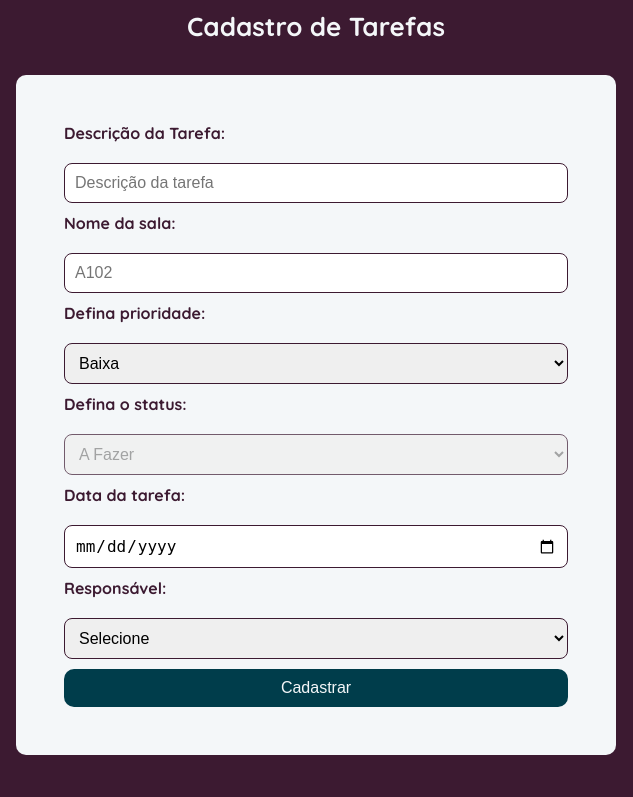
it: Deve mostrar erros de espaçamento em descrição
The image size is (633, 797).
In the field labelled "Descrição da Tarefa:": x=316, y=183 [64,163,568,203], type "        kauannn"
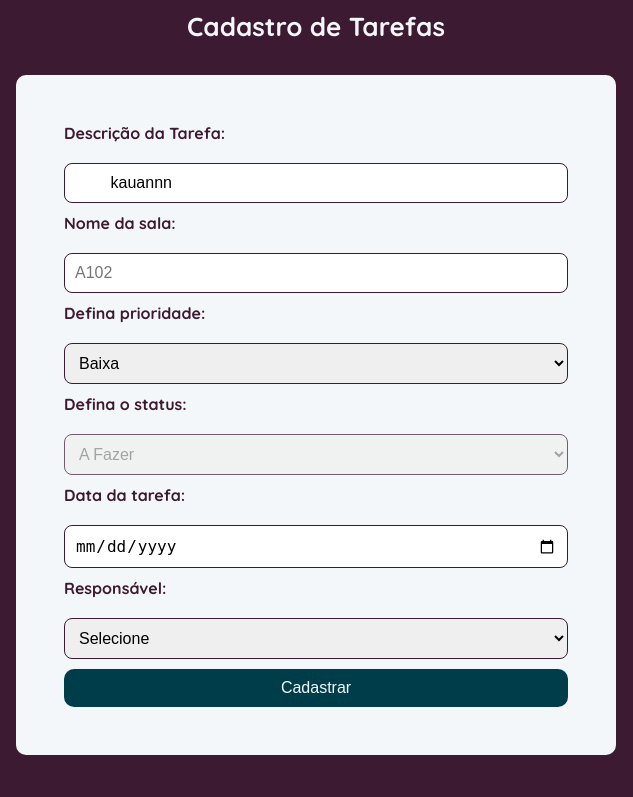
In the field labelled "Nome da sala:": x=316, y=273 [64,253,568,293], type "A545"
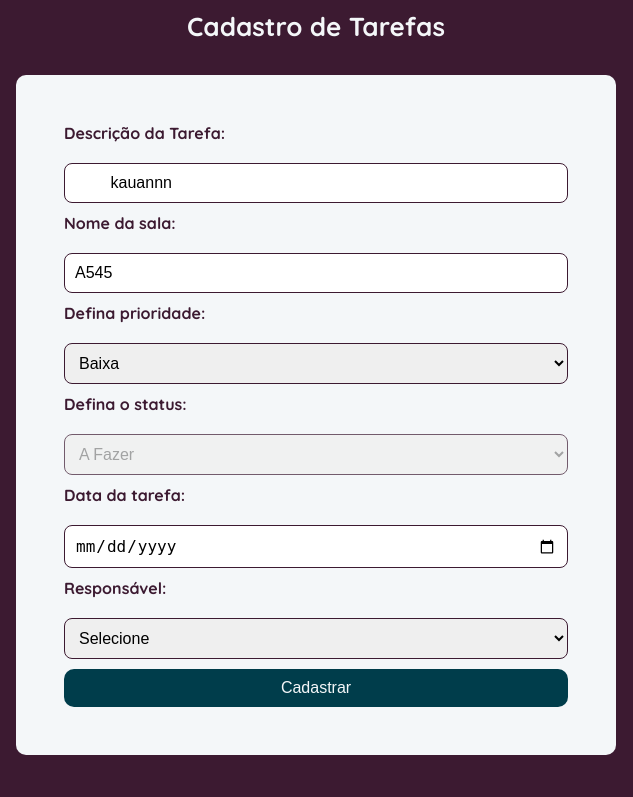
In the date field labelled "Data da tarefa:": x=316, y=546 [64,525,568,568], type "2022-10-05"
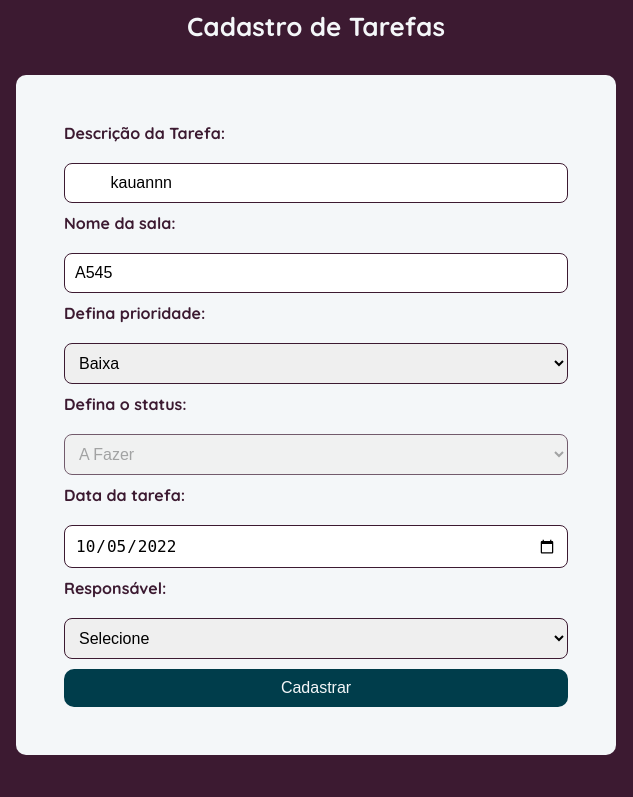
Select "Alta" in the dropdown labelled "Defina prioridade:": x=316, y=364 [64,343,568,384]
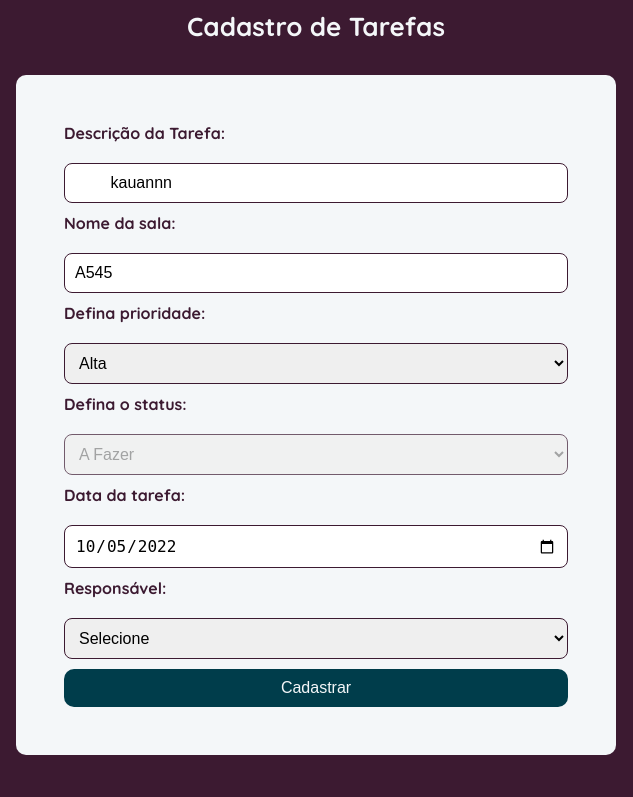
Select "A Fazer" in the dropdown labelled "Defina o status:": x=316, y=454 [64,434,568,475]
Select "15" in the dropdown labelled "Responsável:": x=316, y=638 [64,618,568,659]
Submit the form
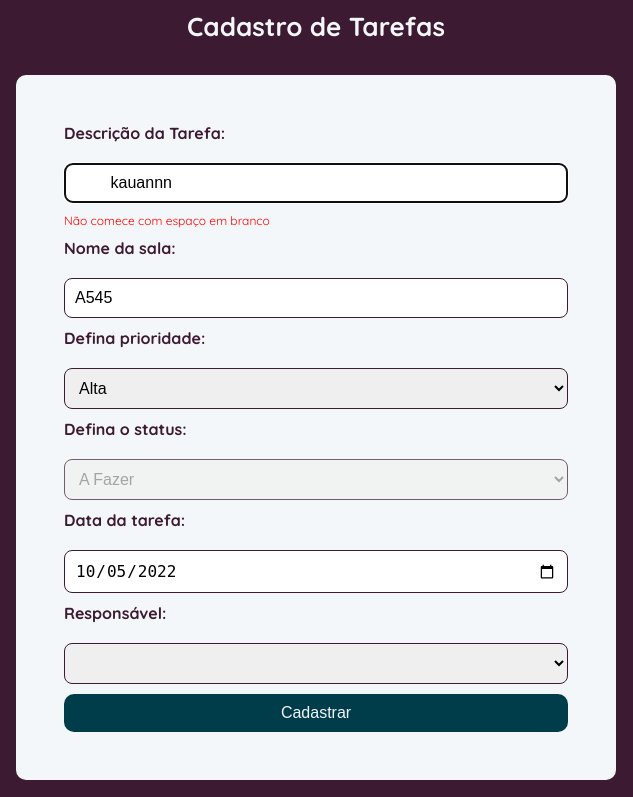
Check: the text "Não comece com espaço em branco" is shown, box [64,213,270,228]
